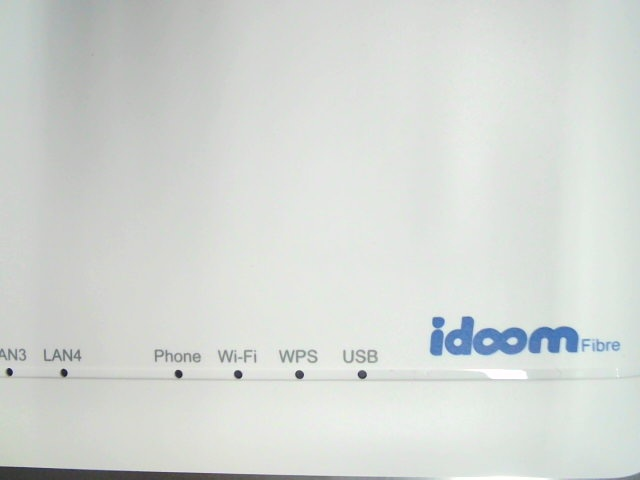BB_idoom: (417, 313, 622, 360)
